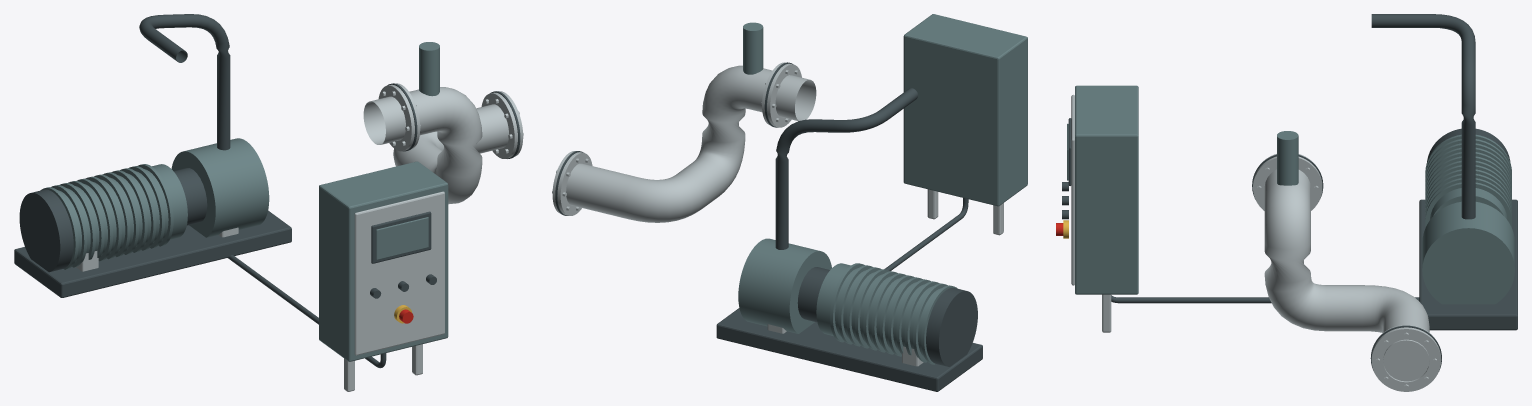
The model's file is landing_pump_drive.glb.
3 views of the same model, side by side, from view 1: azimuth 30°, elevation 25°; view 2: azimuth 150°, elevation 25°; view 3: azimuth 270°, elevation 25° (orthographic). The views are drawn at different scales.
Parts seen in each view (by area): view 1: landing_pump_drive; view 2: landing_pump_drive; view 3: landing_pump_drive.
Part boxes in pixels (bbox=[...]): landing_pump_drive: bbox=[14, 14, 523, 391]; landing_pump_drive: bbox=[552, 14, 1027, 391]; landing_pump_drive: bbox=[1056, 14, 1517, 391].
Bounding box in the file's own units: 3.63 × 2 × 3.19.
